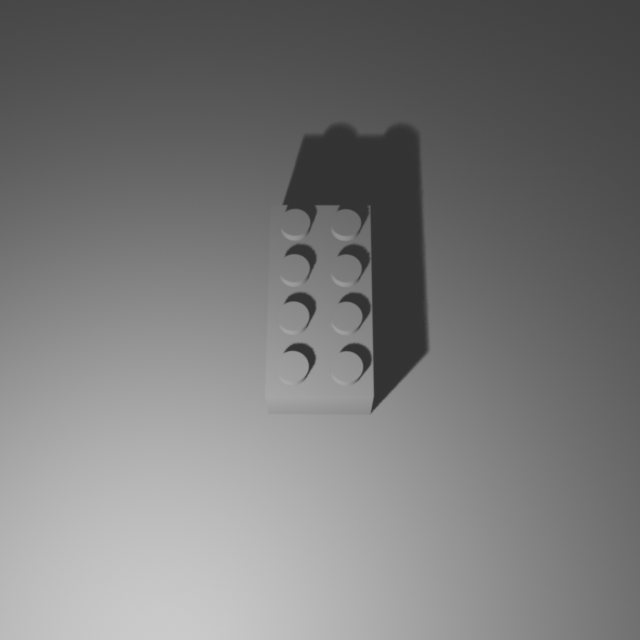lego_2x4: (264, 200, 374, 414)
